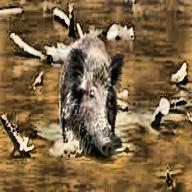boar: (56, 40, 136, 166)
